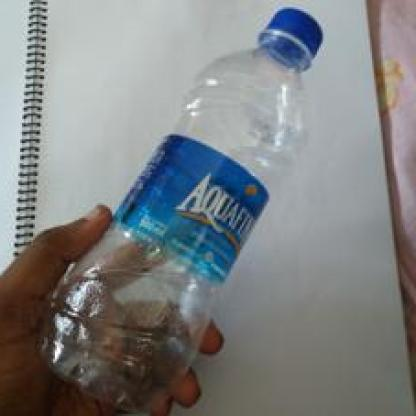bottle: (61, 2, 324, 414)
